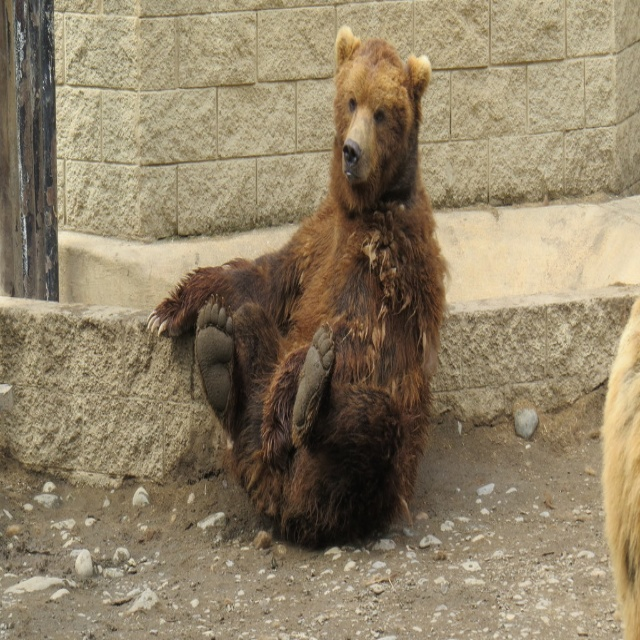Brown bear: (146, 24, 452, 547)
